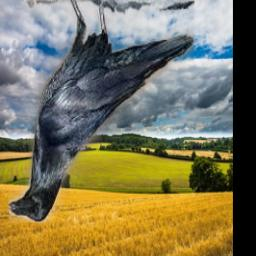Crow: (8, 0, 193, 224)
